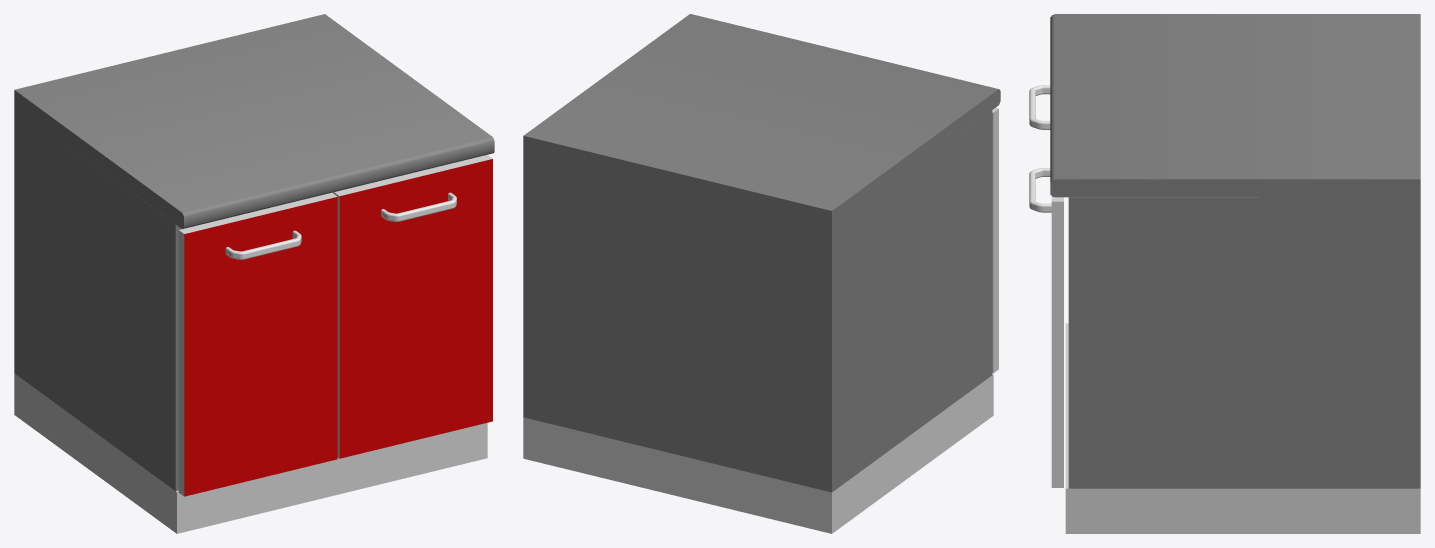
Rendered from sh-lp-doppio.glb.
3 views of the same model, side by side, from view 1: azimuth 30°, elevation 25°; view 2: azimuth 150°, elevation 25°; view 3: azimuth 270°, elevation 25° (orthographic). The views are drawn at different scales.
Visible parts, largest first — view 1: Line67_10, Box522_4, Box52_3, Loft16_1; view 2: Line67_10, Box52_3; view 3: Line67_10, Box52_3, Loft16_1.
Boxes of the visible parts, box(x1,y1,x2,y2) form: Line67_10: box(14, 14, 494, 491); Box522_4: box(184, 159, 492, 496); Box52_3: box(14, 155, 492, 533); Loft16_1: box(225, 192, 456, 259); Line67_10: box(523, 14, 1000, 492); Box52_3: box(523, 108, 998, 533); Line67_10: box(1050, 14, 1420, 488); Box52_3: box(1051, 196, 1420, 533); Loft16_1: box(1029, 85, 1051, 212).
Size of the model in its own units: 1 by 1 by 1.
